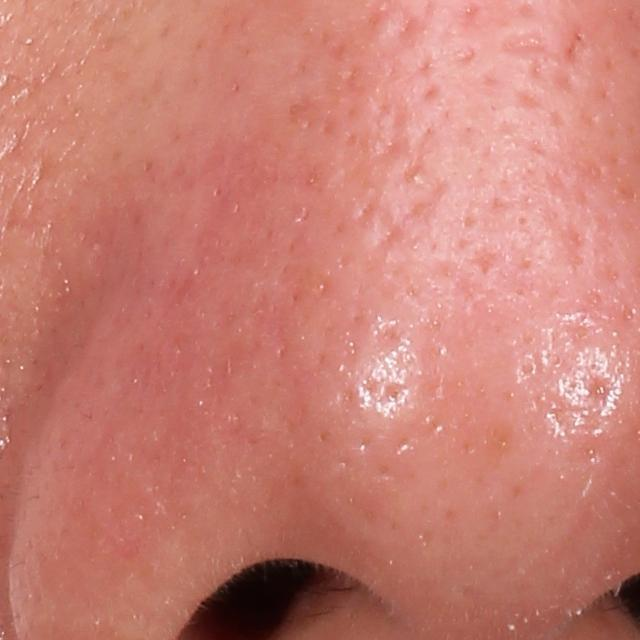atrophic_scar: (363, 83, 410, 164), (355, 188, 409, 254), (399, 120, 438, 185), (500, 28, 560, 59)
